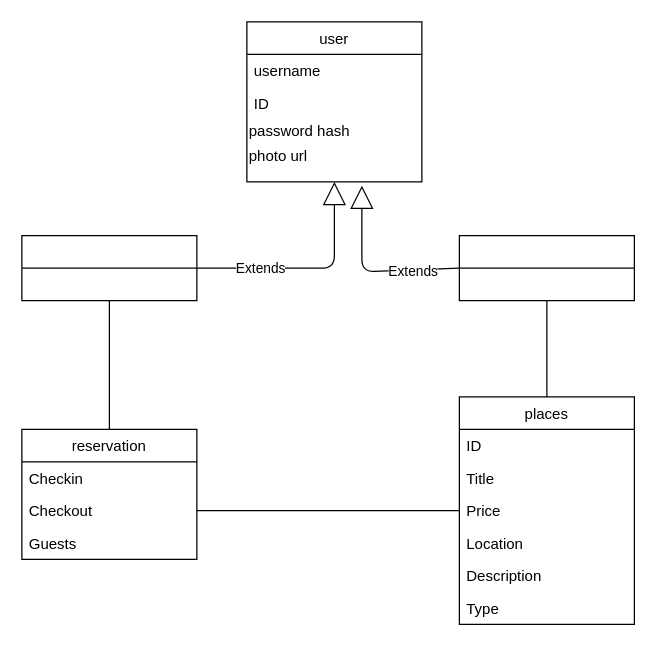
The diagram is 656 pixels wide and 650 high, and some of its shapes have lost their labels. The shapes that lost their labels are listed below. From the top down, each one's centre as x and y in pixels, then its label:
At (109,267): "tourist".
At (546,267): "owner".
